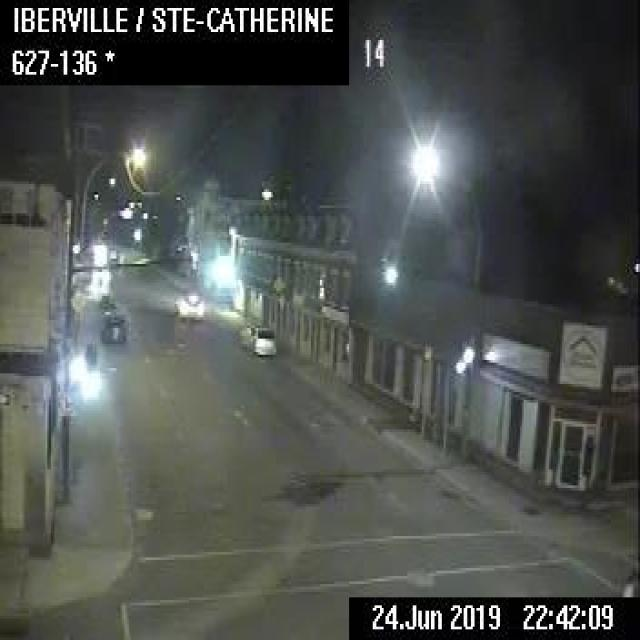vehicle: (238, 320, 276, 354), (100, 308, 124, 341), (176, 293, 204, 316), (622, 568, 638, 595), (98, 290, 115, 314)
